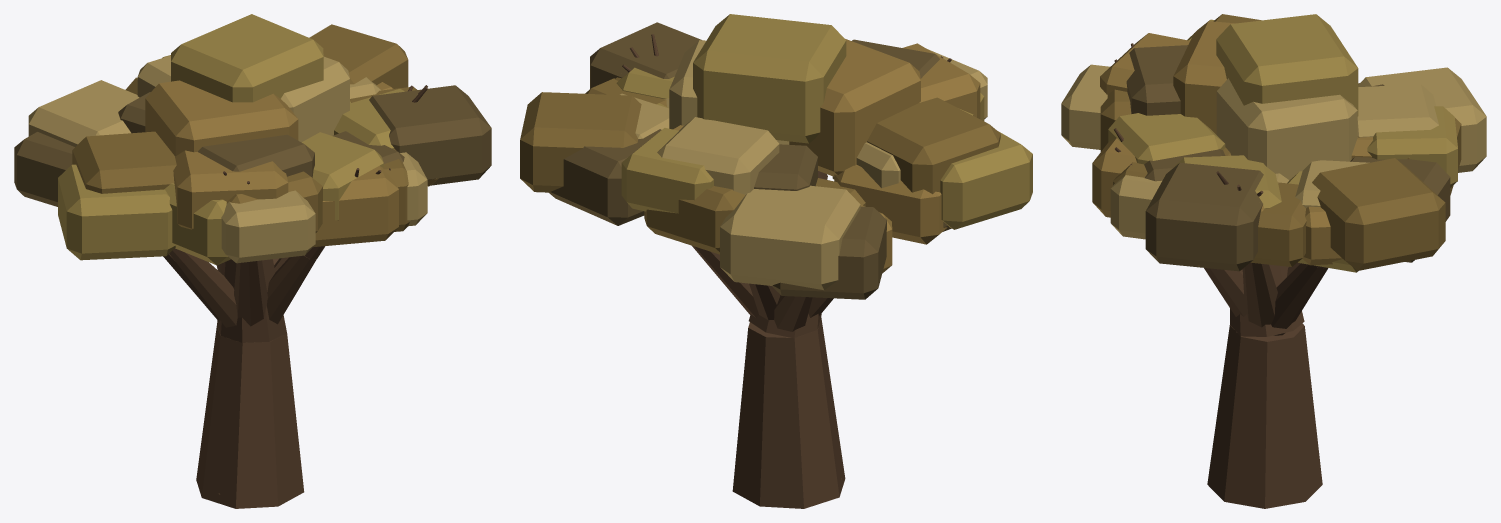
Rendered from apple_mature_autumn.glb.
3 renders of one model, left to right at view 1: azimuth 30°, elevation 25°; view 2: azimuth 150°, elevation 25°; view 3: azimuth 270°, elevation 25°, orthographic. The views are drawn at different scales.
Parts seen in each view (by area): view 1: apple_mature_autumn; view 2: apple_mature_autumn; view 3: apple_mature_autumn.
Part boxes in pixels (left/top/right/bottom): apple_mature_autumn: left=14, top=14, right=491, bottom=508; apple_mature_autumn: left=520, top=14, right=1032, bottom=508; apple_mature_autumn: left=1061, top=14, right=1486, bottom=508.
Size of the model in its own units: 11.9 by 12 by 10.33.
